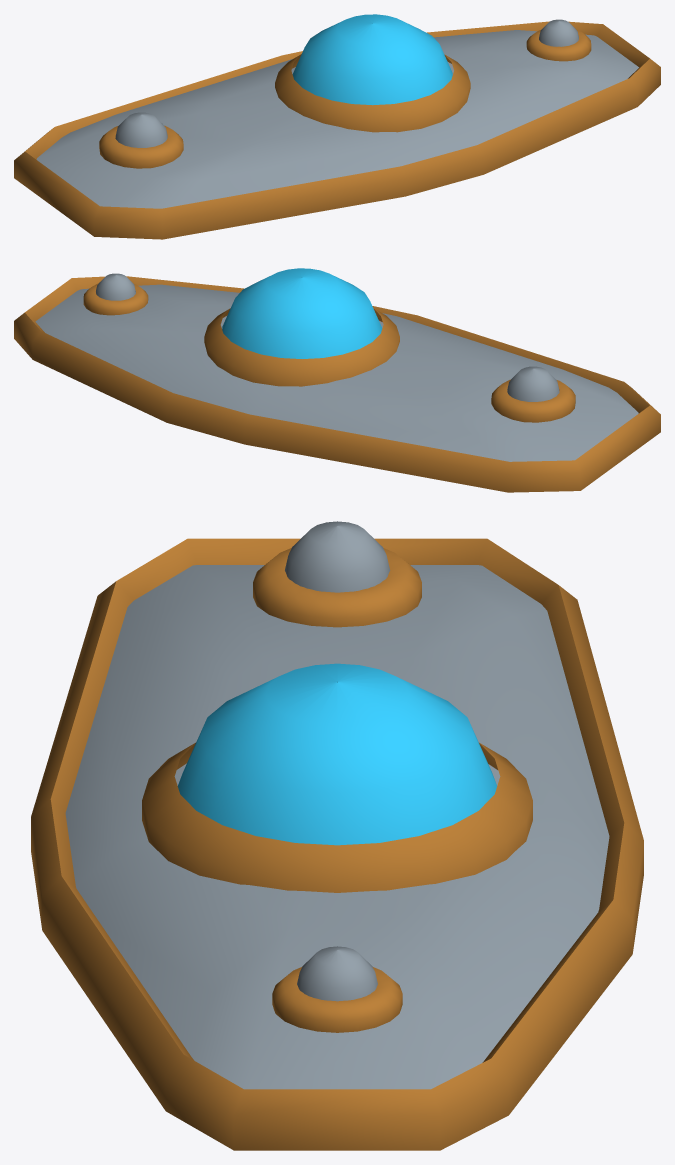
Rendered from mech-bracket.dae.
3 renders of one model, top to bottom at view 1: azimuth 30°, elevation 25°; view 2: azimuth 150°, elevation 25°; view 3: azimuth 270°, elevation 25°, orthographic. The views are drawn at different scales.
Visible parts, largest first — view 1: metal, accent, glow; view 2: metal, accent, glow; view 3: metal, accent, glow.
Boxes of the visible parts, x1=… form: metal: x1=36, y1=19, x2=638, y2=208; accent: x1=14, y1=21, x2=660, y2=239; glow: x1=292, y1=14, x2=452, y2=105; metal: x1=35, y1=273, x2=638, y2=461; accent: x1=14, y1=276, x2=660, y2=492; glow: x1=222, y1=268, x2=382, y2=358; metal: x1=65, y1=521, x2=609, y2=1089; accent: x1=31, y1=538, x2=643, y2=1150; glow: x1=177, y1=663, x2=497, y2=845.
Size of the model in its own units: 2.06 by 0.36 by 0.941.
